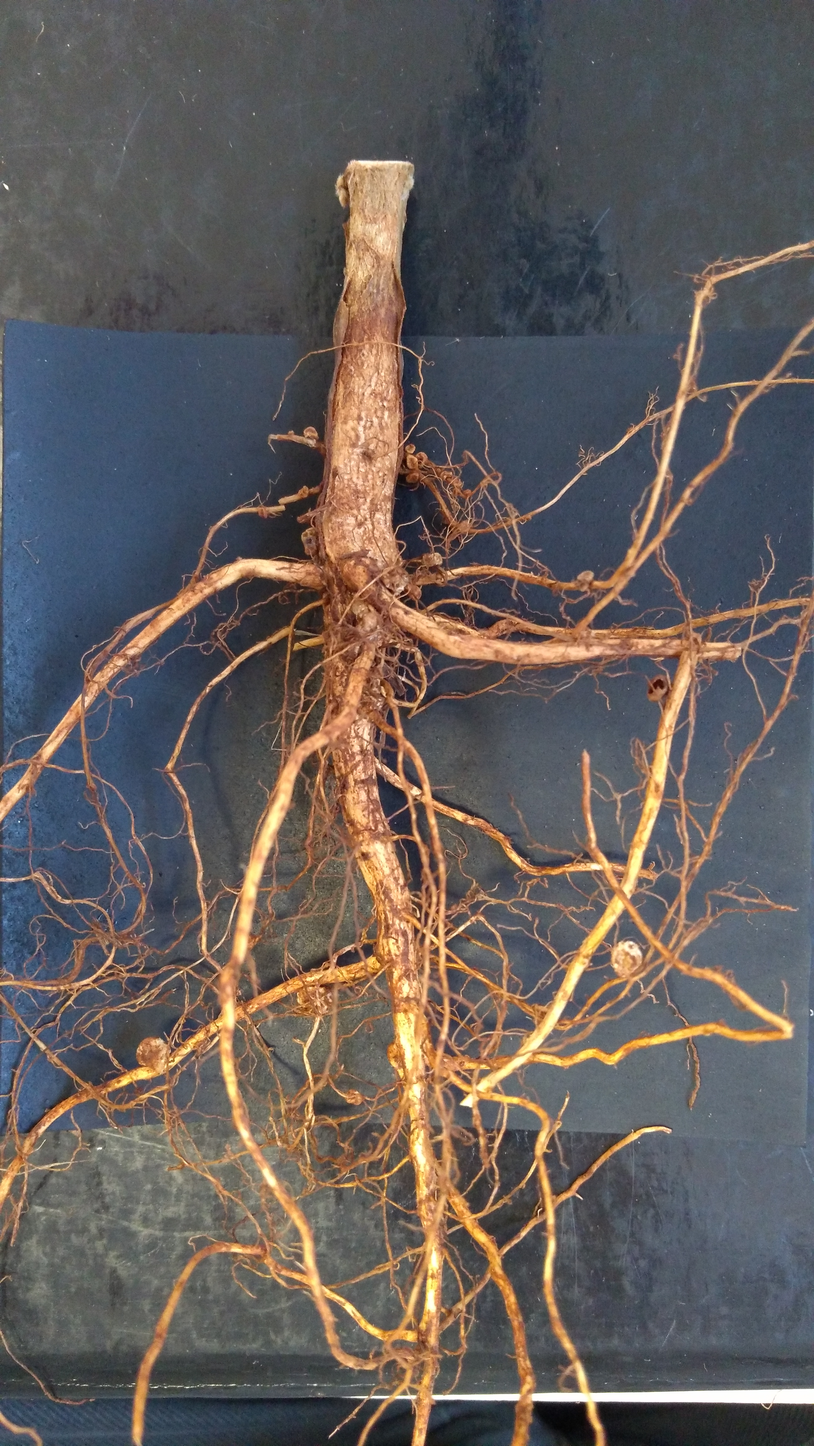nodule: (605, 934, 647, 981), (132, 1032, 174, 1074), (352, 599, 385, 650), (640, 672, 675, 704), (379, 566, 411, 597), (569, 567, 599, 600), (294, 986, 329, 1010), (299, 527, 320, 555), (421, 548, 447, 568), (344, 1086, 363, 1107), (302, 425, 321, 442), (407, 582, 424, 600), (296, 481, 311, 501), (415, 450, 429, 470), (404, 454, 420, 470), (404, 470, 421, 485), (254, 506, 268, 522), (458, 520, 472, 533), (438, 470, 454, 481), (404, 442, 417, 454), (452, 487, 461, 497), (462, 488, 473, 496), (286, 428, 295, 437)
